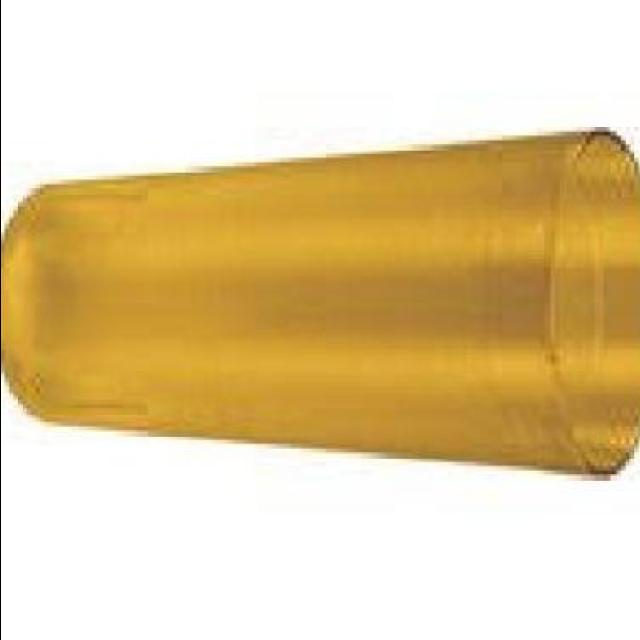kaca: (3, 127, 640, 474)
